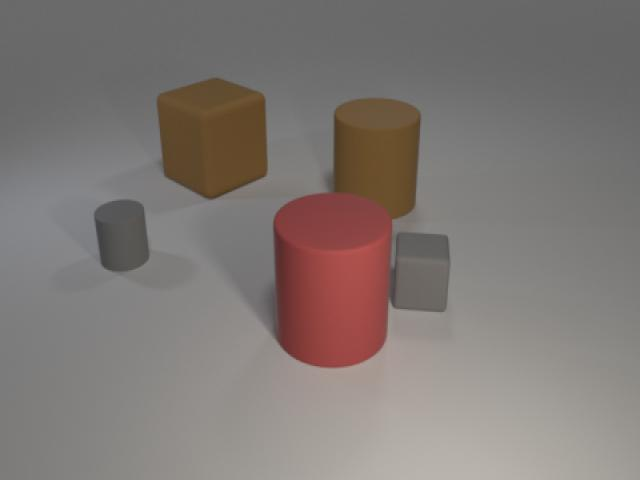cylinder: (268, 185, 398, 373), (328, 87, 424, 226), (91, 192, 155, 279)
